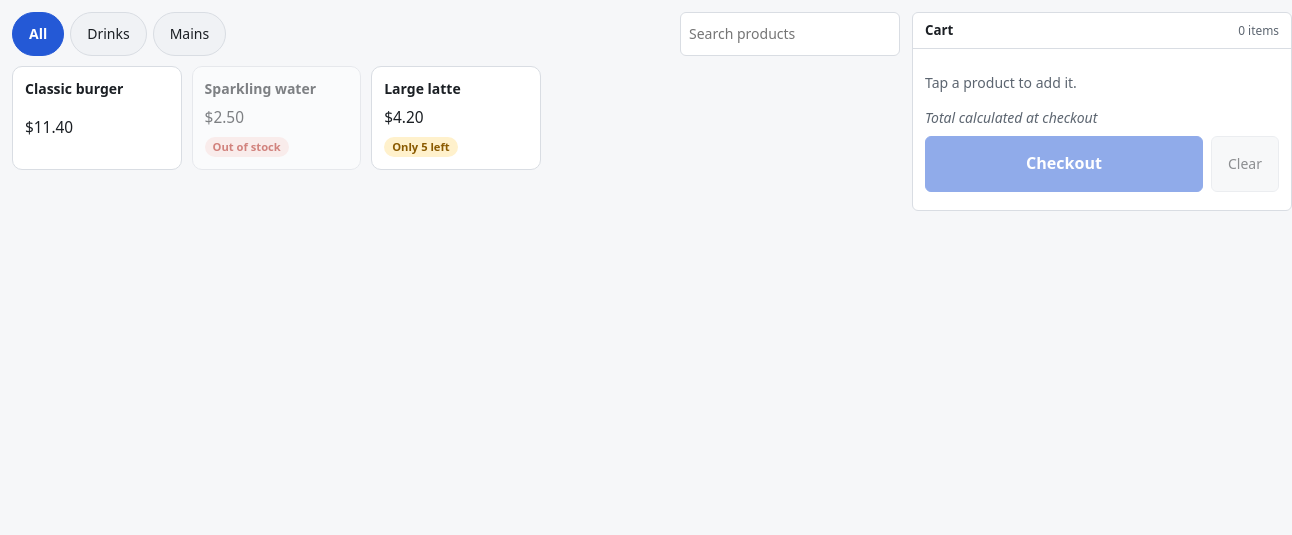
Test: POS › keeps the key after an ambiguous outcome and persists it before sending
The width and height of the screenshot is (1292, 535).
Click the button with aria-label "Add Classic burger". click: x=97, y=118
box: [12,66,182,170]
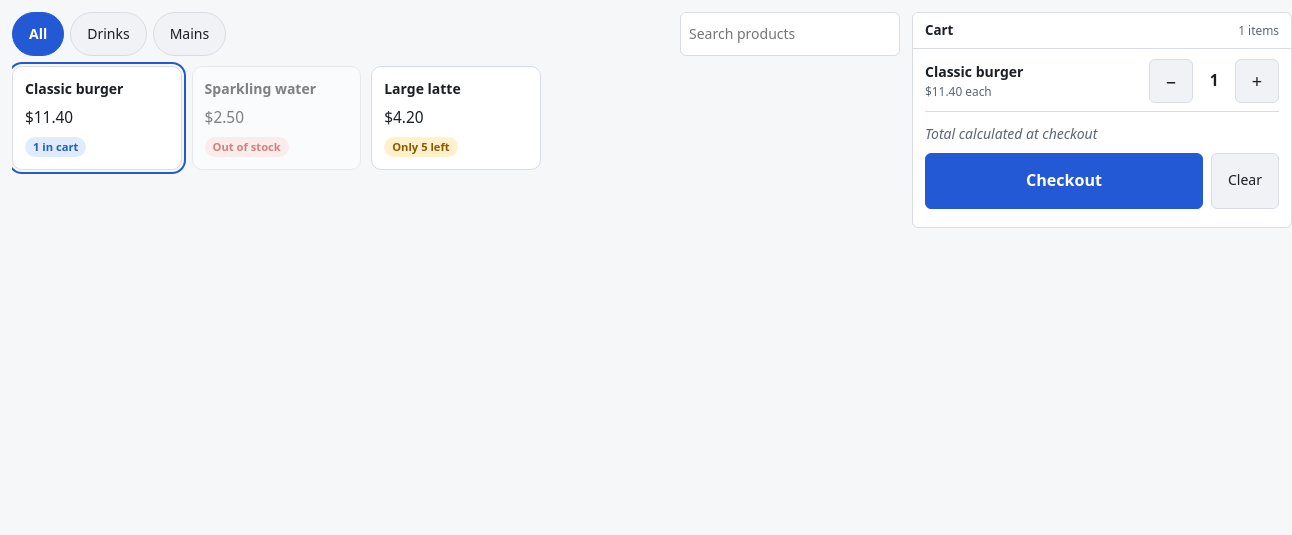
Click the button "Checkout". click: x=1064, y=181
box: [925,153,1203,209]
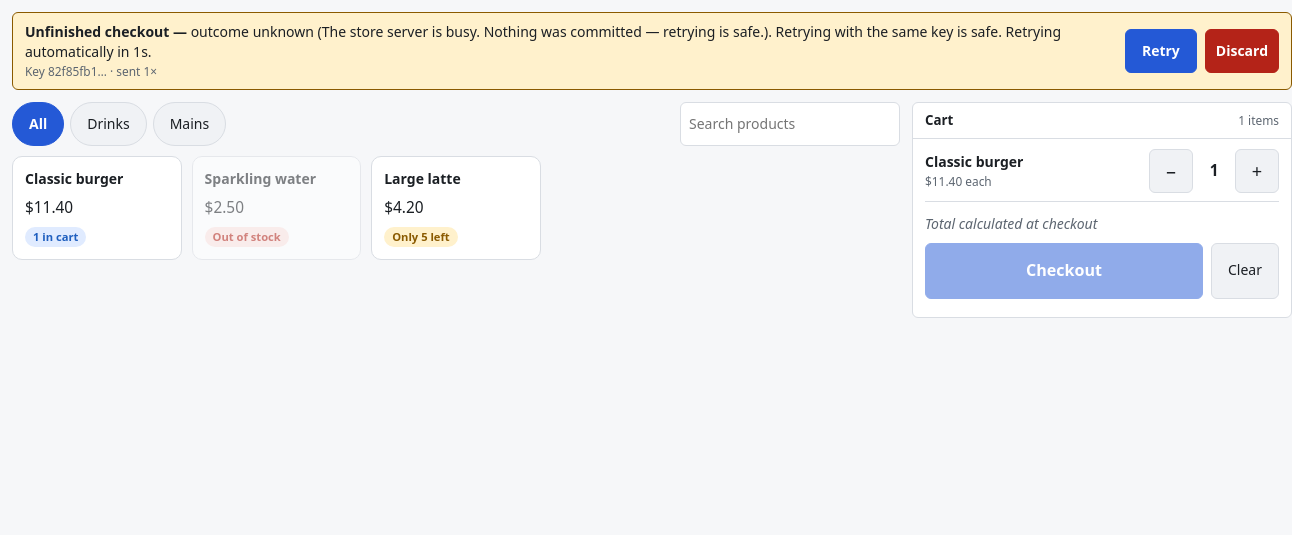
Check: the message with test id "pending-banner" shows "outcome unknown", box [191,22,1002,41]
Click the button "Retry". click: x=1161, y=51
box: [1125,29,1197,73]
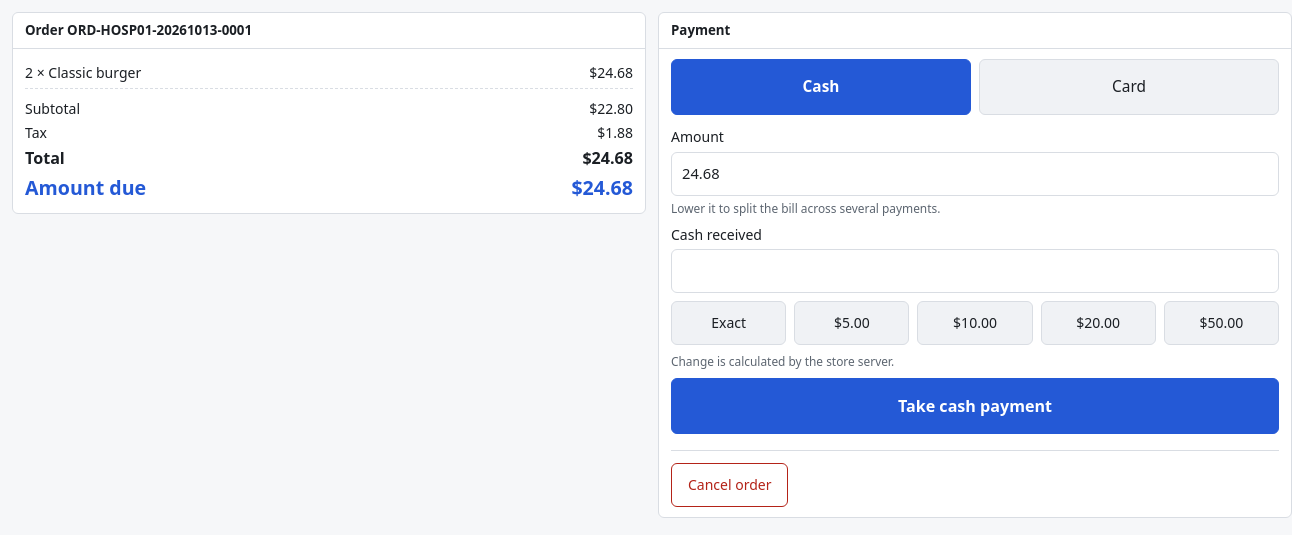
Check: the text with test id "order-total" is shown, box [582,147,633,169]
